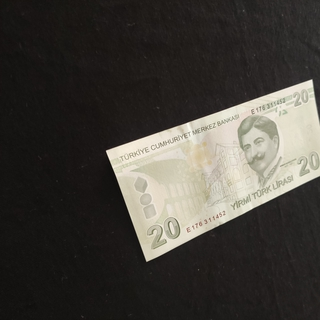20TLBack: (105, 78, 320, 261)
